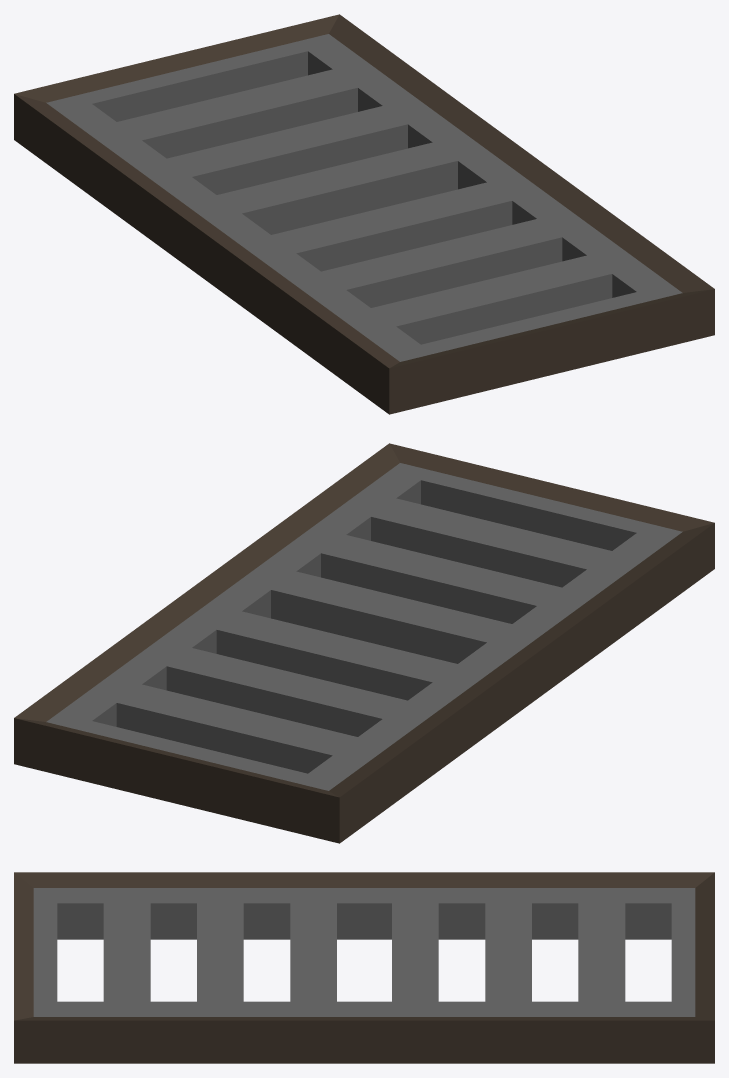
File: Manhole Covers 3.fbx
3 views of the same model, one above another, from view 1: azimuth 30°, elevation 25°; view 2: azimuth 150°, elevation 25°; view 3: azimuth 270°, elevation 25° (orthographic). The views are drawn at different scales.
Visible parts, largest first — view 1: Manhole Covers 3; view 2: Manhole Covers 3; view 3: Manhole Covers 3.
Boxes of the visible parts, x1=… form: Manhole Covers 3: x1=14, y1=14, x2=714, y2=414; Manhole Covers 3: x1=14, y1=443, x2=714, y2=843; Manhole Covers 3: x1=14, y1=872, x2=714, y2=1063.
Bounding box in the file's own units: 0.2702 × 0.5393 × 0.0366.
